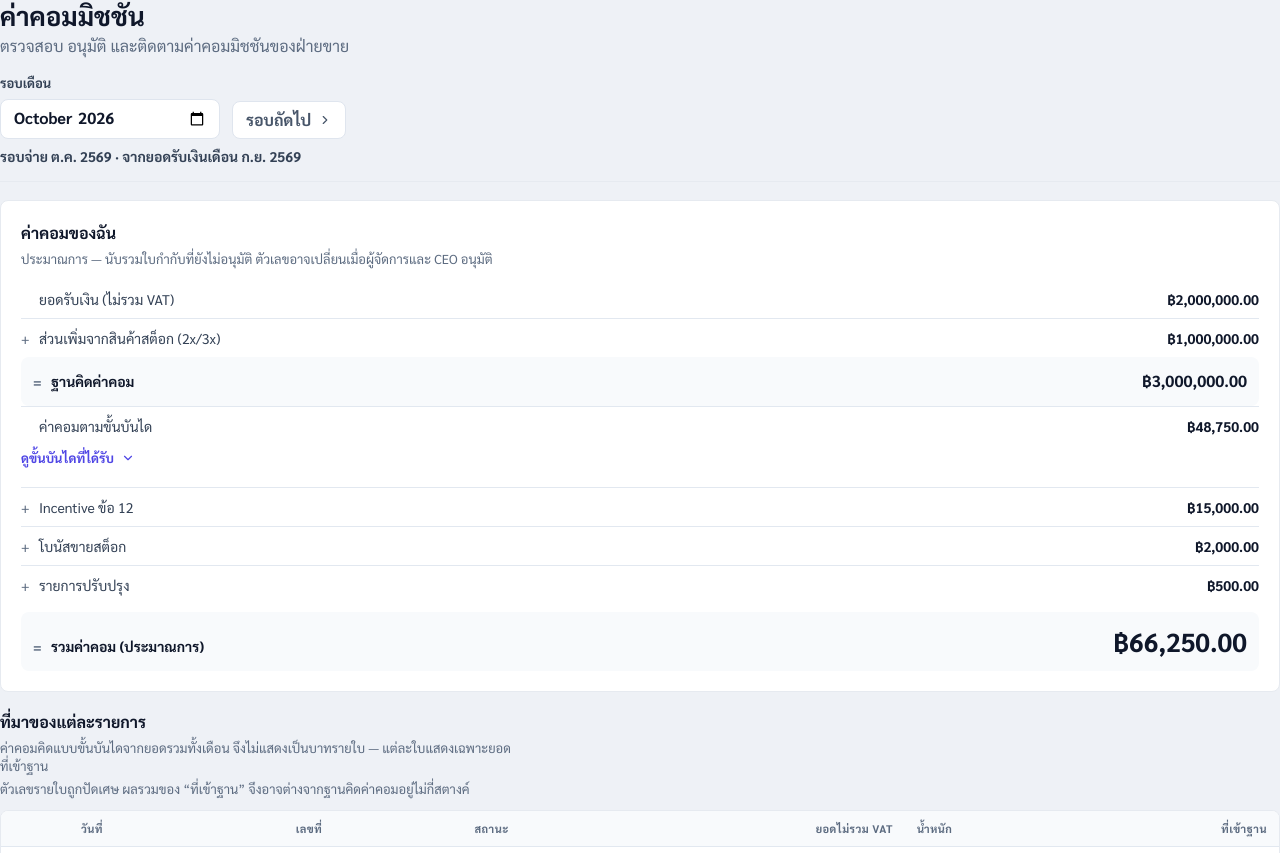
Scenario: rep tier-band disclosure › is collapsed by default and, once opened, lists only the bands actually reached as range · rate · amount
This screenshot has width=1280, height=853.
Step 1. Replace the text in the field labelled "รอบเดือน" with "2026-08" → (110, 119), box [0,99,220,139]
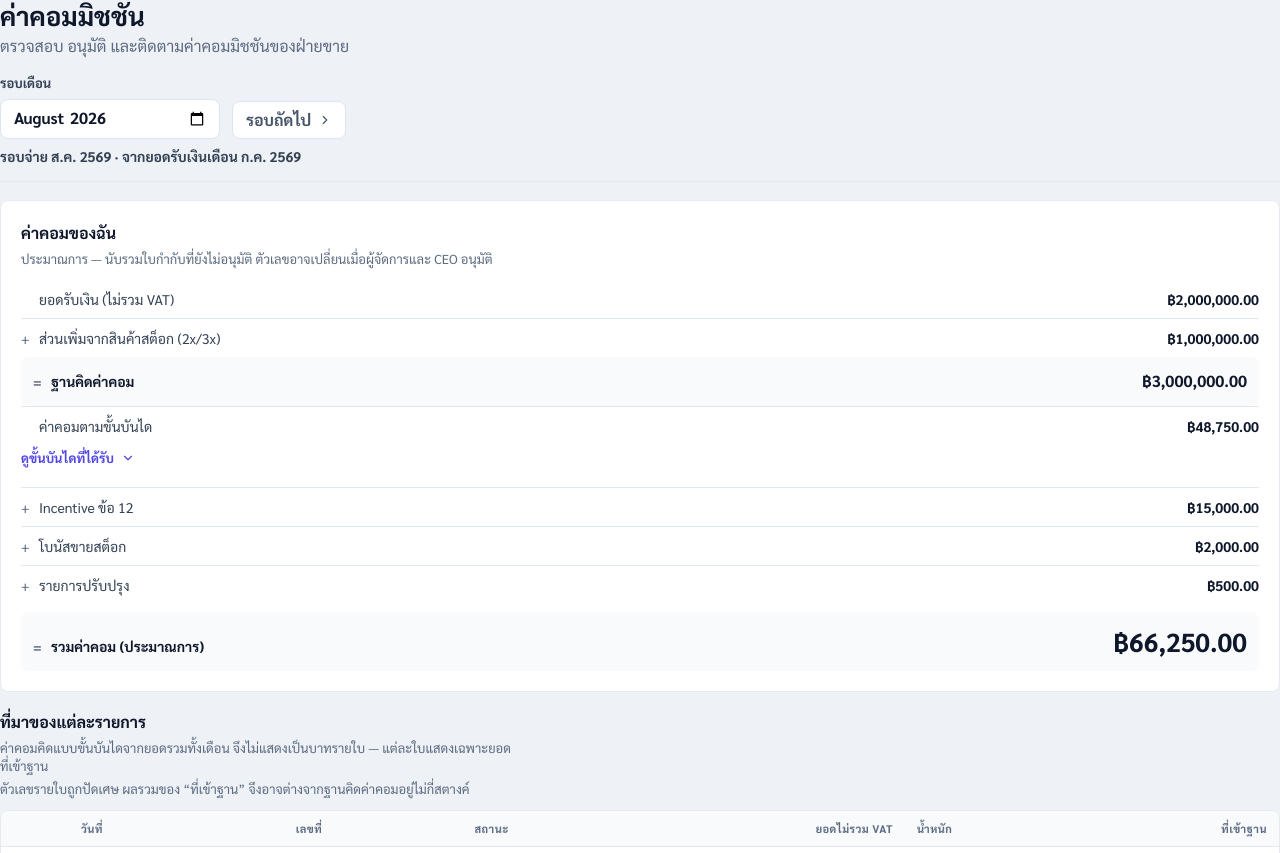
Expected: the text "0.25%" is not shown
Step 2. Click the button "ดูขั้นบันไดที่ได้รับ" → (78, 458), box [21,439,135,477]
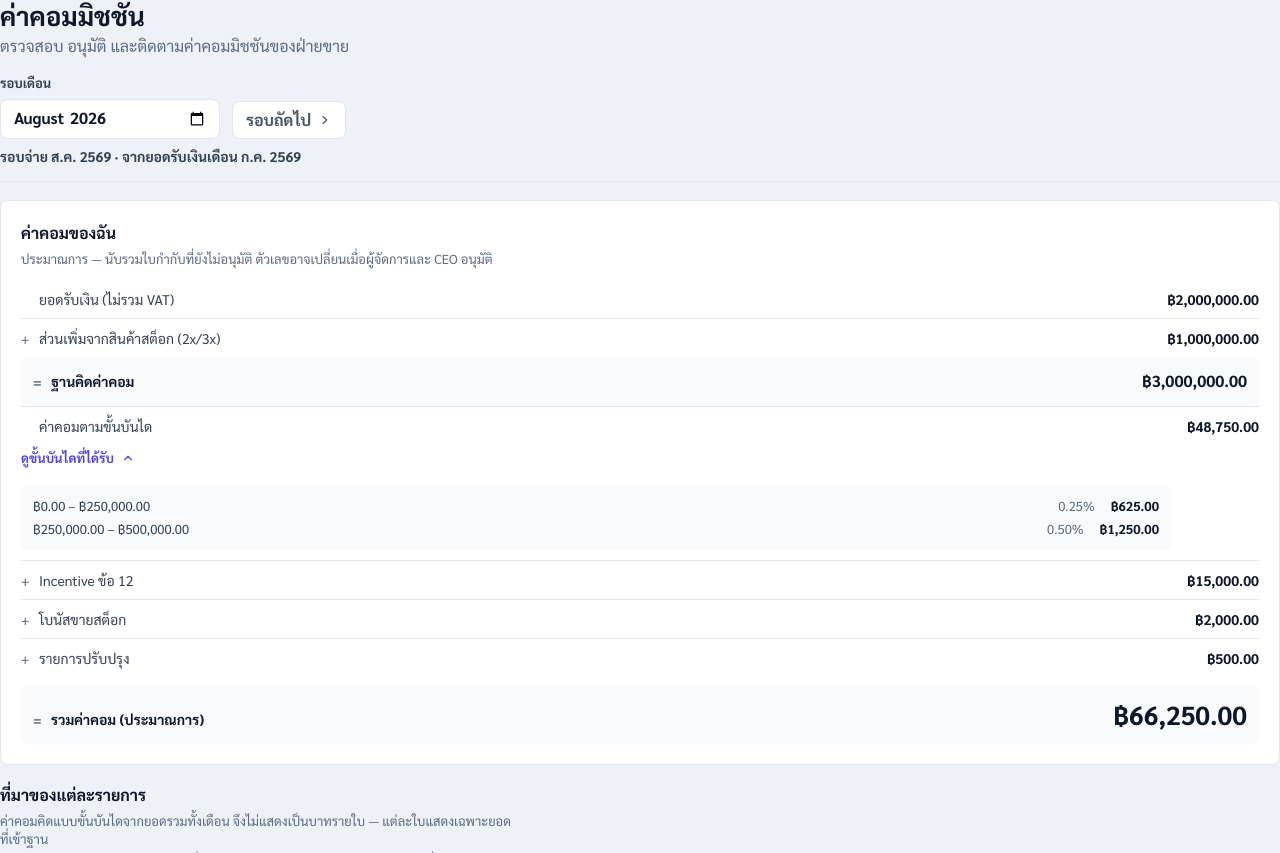
Expected: the text "0.25%" is shown, [1058,497,1095,516]
Expected: the text "0.50%" is shown, [1047,520,1084,538]
Expected: the text "฿625.00" is shown, [1111,497,1159,516]
